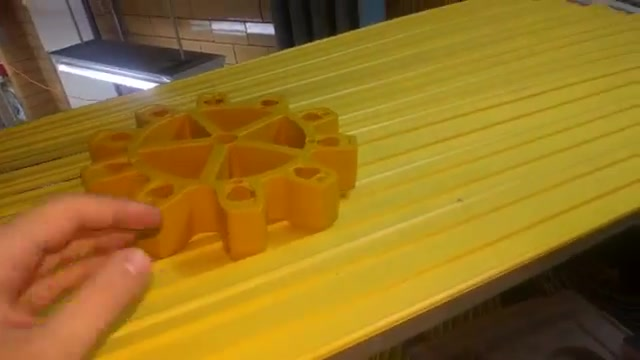gear: (71, 65, 368, 268)
